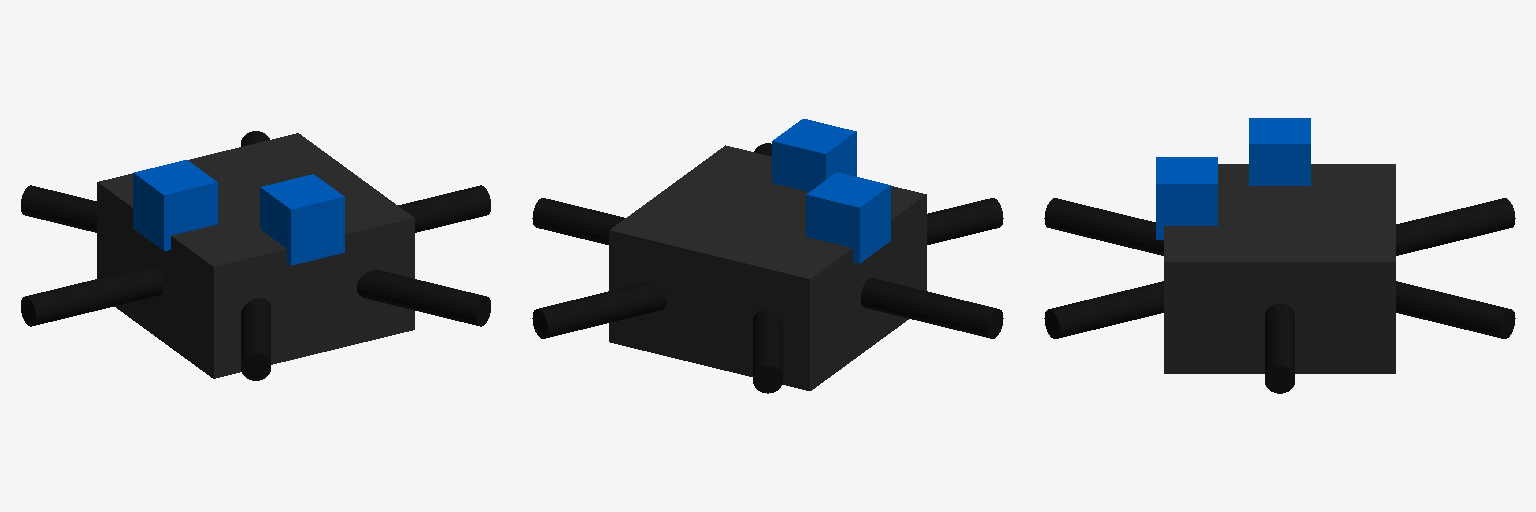
The robot description file, URDF, robot "evolved_bridge_structure_inspection":
<?xml version="1.0"?>
<robot name="evolved_bridge_structure_inspection">
  <!-- Base Link / Central Hub -->
  <link name="base_link">
    <inertial>
      <mass value="0.8000"/>
      <inertia ixx="0.001927" ixy="0" ixz="0" iyy="0.001927" iyz="0" izz="0.003000"/>
    </inertial>
    <visual>
      <geometry>
        <box size="0.15 0.15 0.08"/>
      </geometry>
      <material name="dark_grey"><color rgba="0.2 0.2 0.2 1.0"/></material>
    </visual>
    <collision>
      <geometry>
        <box size="0.15 0.15 0.08"/>
      </geometry>
    </collision>
  </link>
  <!-- Arm 0 -->
  <link name="arm_0">
    <inertial>
      <mass value="0.0225"/>
      <inertia ixx="0.0001" ixy="0" ixz="0" iyy="0.0001" iyz="0" izz="0002"/>
    </inertial>
    <visual>
      <geometry>
        <cylinder length="0.170" radius="0.01"/>
      </geometry>
      <material name="carbon"><color rgba="0.1 0.1 0.1 1.0"/></material>
    </visual>
  </link>
  <joint name="joint_base_arm_0" type="fixed">
    <parent link="base_link"/>
    <child link="arm_0"/>
    <origin xyz="0.0850 0.0000 0.0" rpy="0 1.5708 0.0000"/>
  </joint>
  <!-- Arm 1 -->
  <link name="arm_1">
    <inertial>
      <mass value="0.0225"/>
      <inertia ixx="0.0001" ixy="0" ixz="0" iyy="0.0001" iyz="0" izz="0002"/>
    </inertial>
    <visual>
      <geometry>
        <cylinder length="0.170" radius="0.01"/>
      </geometry>
      <material name="carbon"><color rgba="0.1 0.1 0.1 1.0"/></material>
    </visual>
  </link>
  <joint name="joint_base_arm_1" type="fixed">
    <parent link="base_link"/>
    <child link="arm_1"/>
    <origin xyz="0.0425 0.0736 0.0" rpy="0 1.5708 1.0472"/>
  </joint>
  <!-- Arm 2 -->
  <link name="arm_2">
    <inertial>
      <mass value="0.0225"/>
      <inertia ixx="0.0001" ixy="0" ixz="0" iyy="0.0001" iyz="0" izz="0002"/>
    </inertial>
    <visual>
      <geometry>
        <cylinder length="0.170" radius="0.01"/>
      </geometry>
      <material name="carbon"><color rgba="0.1 0.1 0.1 1.0"/></material>
    </visual>
  </link>
  <joint name="joint_base_arm_2" type="fixed">
    <parent link="base_link"/>
    <child link="arm_2"/>
    <origin xyz="-0.0425 0.0736 0.0" rpy="0 1.5708 2.0944"/>
  </joint>
  <!-- Arm 3 -->
  <link name="arm_3">
    <inertial>
      <mass value="0.0225"/>
      <inertia ixx="0.0001" ixy="0" ixz="0" iyy="0.0001" iyz="0" izz="0002"/>
    </inertial>
    <visual>
      <geometry>
        <cylinder length="0.170" radius="0.01"/>
      </geometry>
      <material name="carbon"><color rgba="0.1 0.1 0.1 1.0"/></material>
    </visual>
  </link>
  <joint name="joint_base_arm_3" type="fixed">
    <parent link="base_link"/>
    <child link="arm_3"/>
    <origin xyz="-0.0850 0.0000 0.0" rpy="0 1.5708 3.1416"/>
  </joint>
  <!-- Arm 4 -->
  <link name="arm_4">
    <inertial>
      <mass value="0.0225"/>
      <inertia ixx="0.0001" ixy="0" ixz="0" iyy="0.0001" iyz="0" izz="0002"/>
    </inertial>
    <visual>
      <geometry>
        <cylinder length="0.170" radius="0.01"/>
      </geometry>
      <material name="carbon"><color rgba="0.1 0.1 0.1 1.0"/></material>
    </visual>
  </link>
  <joint name="joint_base_arm_4" type="fixed">
    <parent link="base_link"/>
    <child link="arm_4"/>
    <origin xyz="-0.0425 -0.0736 0.0" rpy="0 1.5708 4.1888"/>
  </joint>
  <!-- Arm 5 -->
  <link name="arm_5">
    <inertial>
      <mass value="0.0225"/>
      <inertia ixx="0.0001" ixy="0" ixz="0" iyy="0.0001" iyz="0" izz="0002"/>
    </inertial>
    <visual>
      <geometry>
        <cylinder length="0.170" radius="0.01"/>
      </geometry>
      <material name="carbon"><color rgba="0.1 0.1 0.1 1.0"/></material>
    </visual>
  </link>
  <joint name="joint_base_arm_5" type="fixed">
    <parent link="base_link"/>
    <child link="arm_5"/>
    <origin xyz="0.0425 -0.0736 0.0" rpy="0 1.5708 5.2360"/>
  </joint>
  <!-- Sensor: sensor_0_s_lidar_2d -->
  <link name="sensor_0_s_lidar_2d">
    <inertial>
      <mass value="0.1350"/>
      <inertia ixx="0.00005" ixy="0" ixz="0" iyy="0.00005" iyz="0" izz="0.00005"/>
    </inertial>
    <visual>
      <geometry>
        <box size="0.04 0.04 0.04"/>
      </geometry>
      <material name="blue"><color rgba="0.0 0.4 0.8 1.0"/></material>
    </visual>
  </link>
  <joint name="joint_base_sensor_0_s_lidar_2d" type="fixed">
    <parent link="base_link"/>
    <child link="sensor_0_s_lidar_2d"/>
    <origin xyz="-0.0600 -0.0000 0.0500" rpy="0 0 0"/>
  </joint>
  <!-- Sensor: sensor_1_s_depth_cam -->
  <link name="sensor_1_s_depth_cam">
    <inertial>
      <mass value="0.0600"/>
      <inertia ixx="0.00005" ixy="0" ixz="0" iyy="0.00005" iyz="0" izz="0.00005"/>
    </inertial>
    <visual>
      <geometry>
        <box size="0.04 0.04 0.04"/>
      </geometry>
      <material name="blue"><color rgba="0.0 0.4 0.8 1.0"/></material>
    </visual>
  </link>
  <joint name="joint_base_sensor_1_s_depth_cam" type="fixed">
    <parent link="base_link"/>
    <child link="sensor_1_s_depth_cam"/>
    <origin xyz="0.0000 -0.0600 0.0500" rpy="0 0 0"/>
  </joint>
</robot>

--- What the picture shows (computed from the rendered views, not written in the file) ---
3 views of the same robot in one strip: view 1: azimuth 30°, elevation 25°; view 2: azimuth 150°, elevation 25°; view 3: azimuth 270°, elevation 25° (orthographic).
Model evolved_bridge_structure_inspection with 9 links and 8 joints (8 fixed), rooted at base_link, posed all joints at 0.
Links seen in each view (by area): view 1: base_link, sensor_1_s_depth_cam, sensor_0_s_lidar_2d, arm_3, arm_5, arm_0, arm_2, arm_4; view 2: base_link, sensor_0_s_lidar_2d, sensor_1_s_depth_cam, arm_3, arm_1, arm_0, arm_4, arm_2; view 3: base_link, sensor_1_s_depth_cam, sensor_0_s_lidar_2d, arm_2, arm_1, arm_5, arm_4, arm_0.
Link boxes in pixels (x1,y1,x2,y2): base_link: [97, 133, 414, 378]; sensor_1_s_depth_cam: [260, 174, 344, 265]; sensor_0_s_lidar_2d: [133, 160, 217, 250]; arm_3: [21, 265, 162, 326]; arm_5: [357, 270, 490, 326]; arm_0: [398, 185, 490, 232]; arm_2: [21, 185, 96, 232]; arm_4: [241, 298, 270, 380]; base_link: [609, 145, 926, 390]; sensor_0_s_lidar_2d: [806, 172, 890, 263]; sensor_1_s_depth_cam: [772, 119, 856, 191]; arm_3: [861, 278, 1003, 338]; arm_1: [532, 282, 666, 338]; arm_0: [532, 198, 625, 244]; arm_4: [927, 198, 1003, 244]; arm_2: [753, 311, 782, 393]; base_link: [1164, 164, 1395, 373]; sensor_1_s_depth_cam: [1156, 157, 1217, 239]; sensor_0_s_lidar_2d: [1249, 118, 1310, 185]; arm_2: [1396, 198, 1515, 255]; arm_1: [1396, 281, 1515, 338]; arm_5: [1044, 281, 1163, 338]; arm_4: [1044, 198, 1163, 255]; arm_0: [1265, 304, 1294, 393].
Bounding box of the posed robot: 0.34 × 0.3044 × 0.11 m (x, y, z).
Geometry: primitives only (box / cylinder / sphere), no mesh files.
